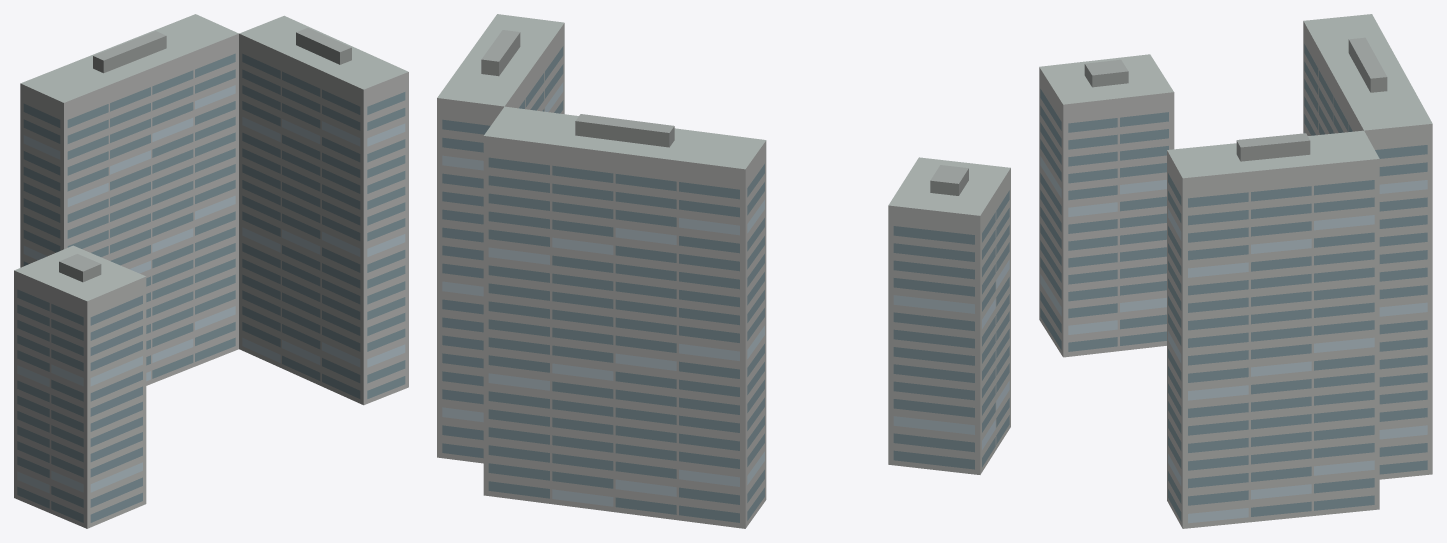
Rendered from apt-a13509006.glb.
The picture shows the model from 3 angles, left to right: view 1: azimuth 30°, elevation 25°; view 2: azimuth 150°, elevation 25°; view 3: azimuth 270°, elevation 25°; orthographic projection. The views are drawn at different scales.
Visible parts, largest first — view 1: apt-a13509006; view 2: apt-a13509006; view 3: apt-a13509006.
Boxes of the visible parts, x1,y1,x2,y2 form: apt-a13509006: (14,14,408,528); apt-a13509006: (437,14,1010,528); apt-a13509006: (1039,14,1432,528).
Bounding box in the file's own units: 80.89 × 62 × 60.64.
